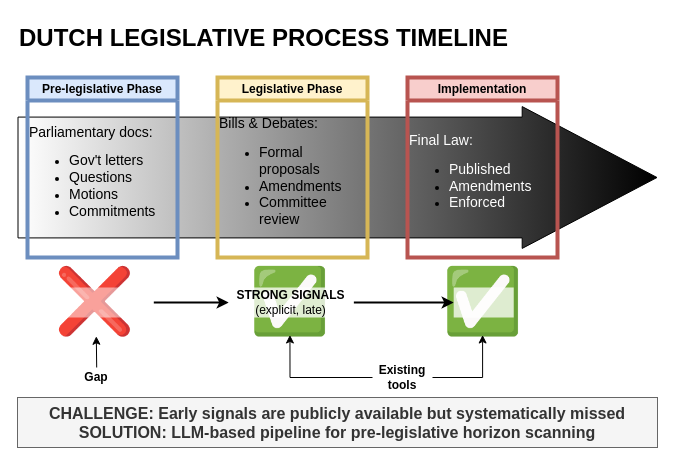
Some shapes in this 675 by 465 pixel diagram are drawn without their labels. The centre of each missing label's shape, as x and y in pixels:
"CERTAIN (final)" goes at point 483,302.
"WEAK SIGNALS (informal, early)" goes at point 95,302.
